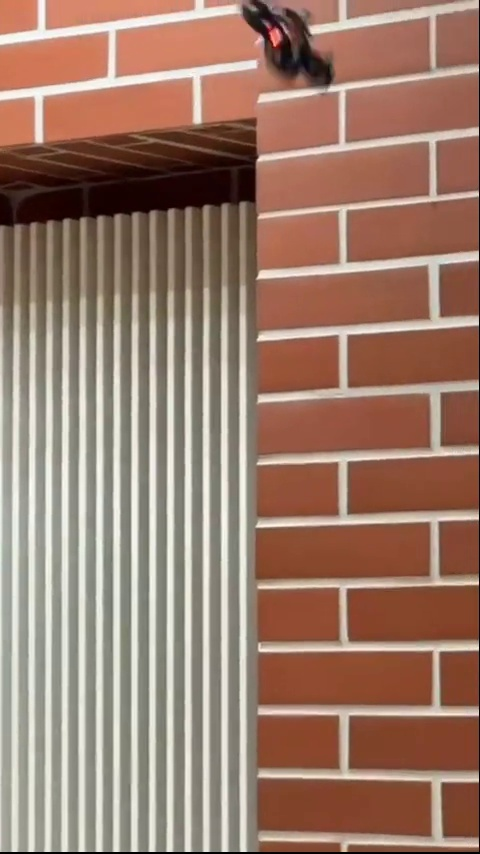drone: (234, 3, 346, 92)
